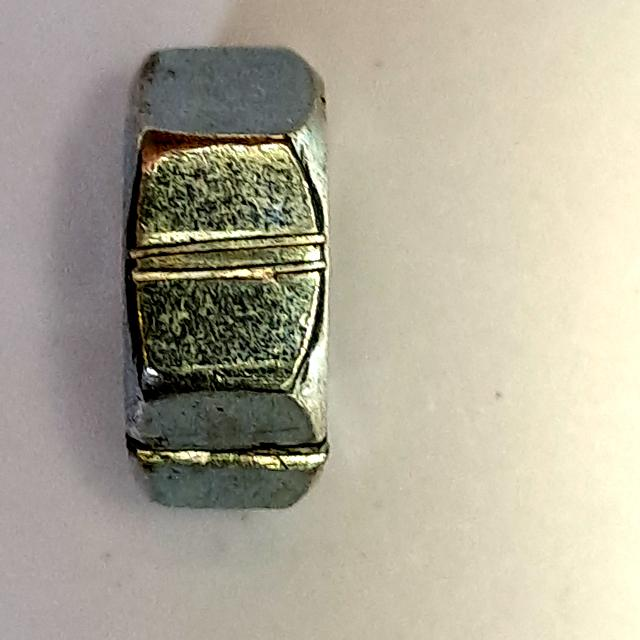Side_Scratches: (74, 32, 371, 534)
